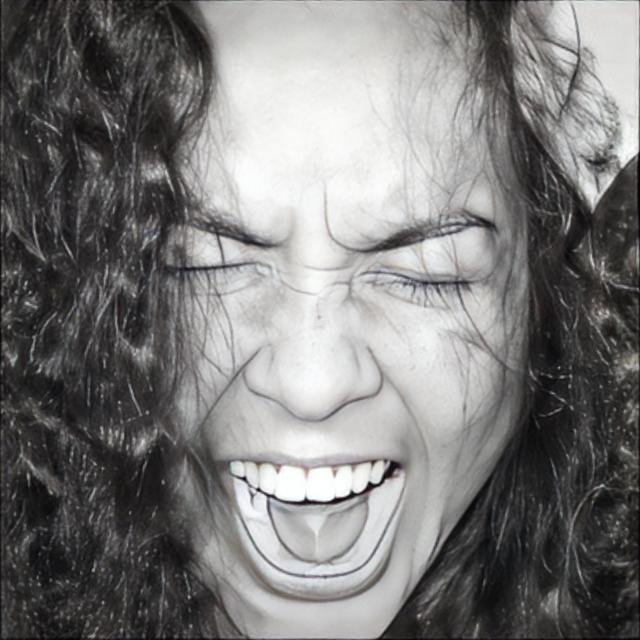anger: (122, 35, 526, 616)
